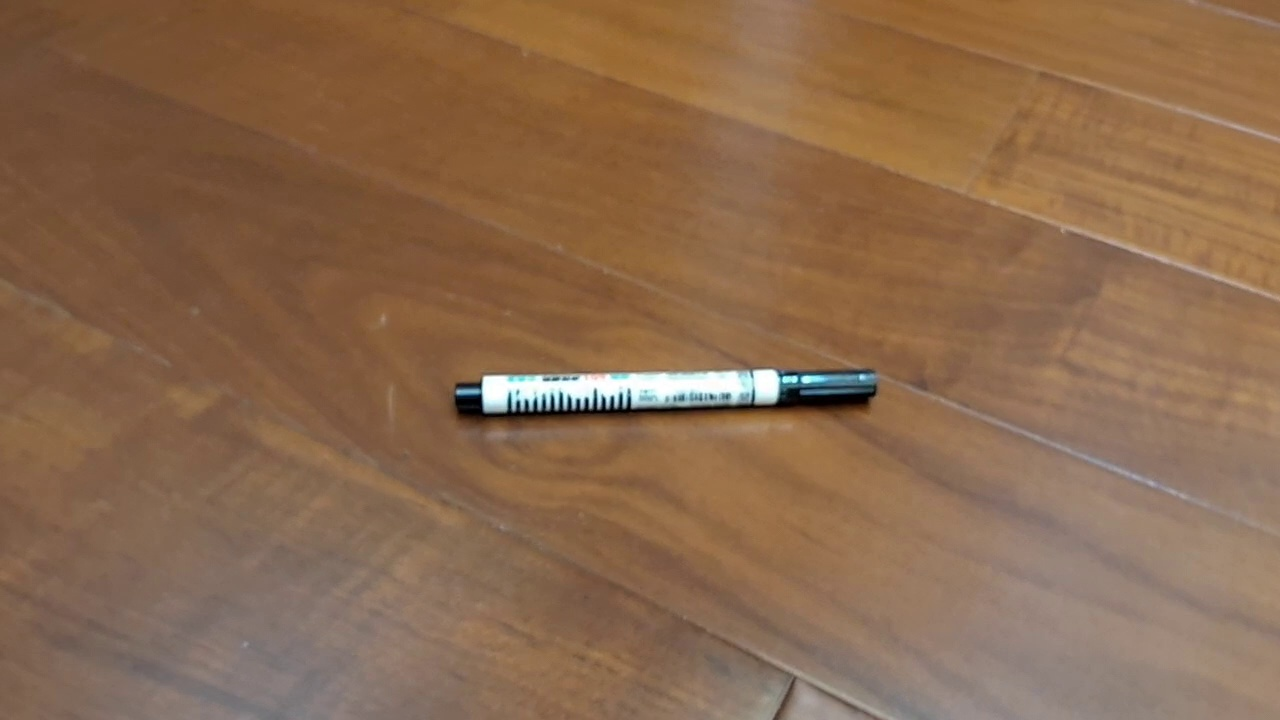pen: (454, 365, 879, 418)
